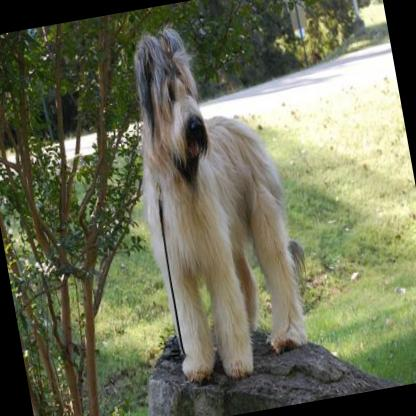briard: (110, 8, 316, 385)
